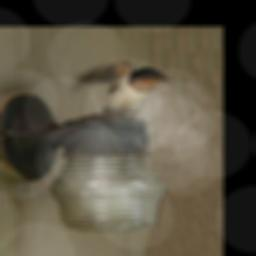Swallow: (71, 59, 169, 118)
